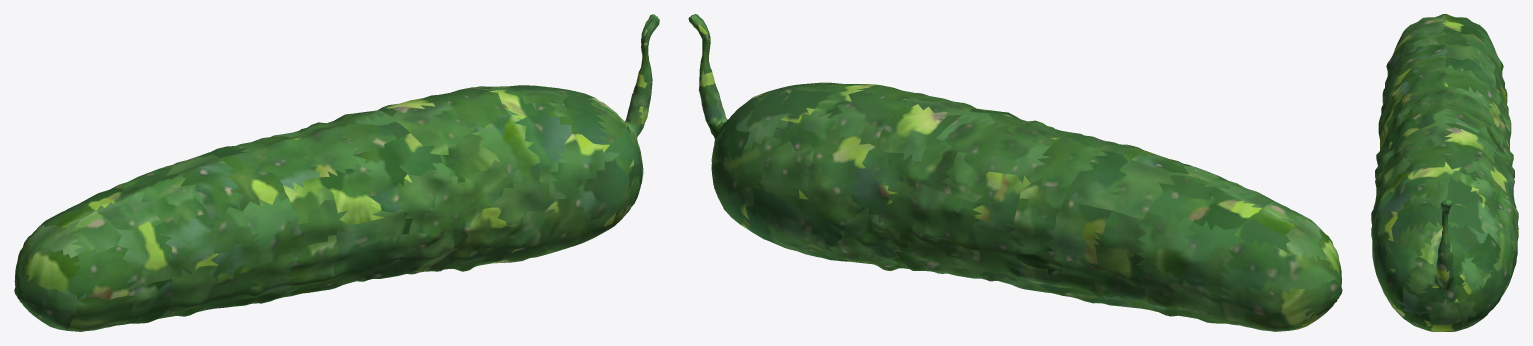
File: cucumber.obj
3 renders of one model, left to right at view 1: azimuth 30°, elevation 25°; view 2: azimuth 150°, elevation 25°; view 3: azimuth 270°, elevation 25°, orthographic. The views are drawn at different scales.
Parts seen in each view (by area): view 1: mesh_0; view 2: mesh_0; view 3: mesh_0.
Part boxes in pixels (x1=…): mesh_0: x1=14, y1=14, x2=659, y2=331; mesh_0: x1=688, y1=14, x2=1342, y2=331; mesh_0: x1=1371, y1=14, x2=1518, y2=331.
Size of the model in its own units: 1.9 by 0.5675 by 0.4579.
1 material, 1 textured.
